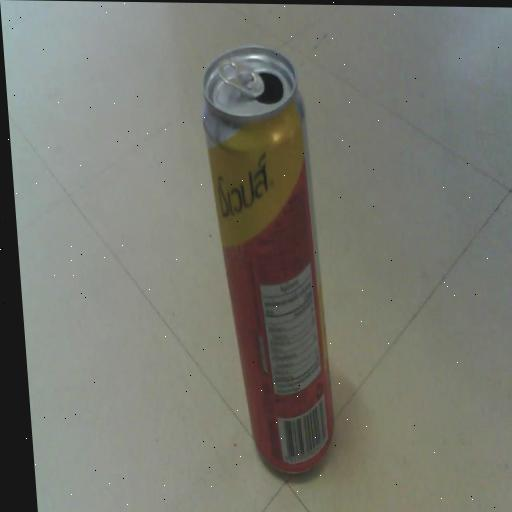canned: (181, 32, 347, 474)
